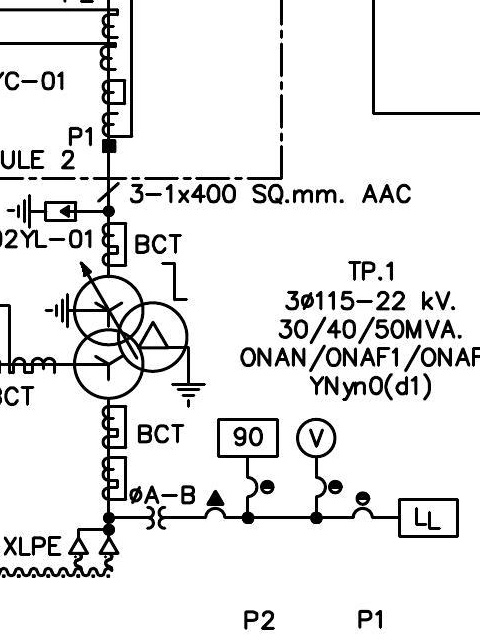11522_tx_ynyn0d1: (219, 287, 231, 311)
115_1way_ds_w_motor: (256, 196, 267, 205)
115_3ways_ds_w_motor: (216, 51, 227, 59), (309, 51, 320, 59), (219, 171, 223, 179), (219, 215, 223, 223), (313, 172, 317, 180)
115_breaker: (221, 163, 224, 170), (314, 164, 317, 171), (221, 228, 224, 235)
115_la: (213, 74, 220, 80), (213, 273, 220, 279), (307, 74, 314, 80)
115_vt_1p: (272, 220, 287, 248)
115_vt_3p: (319, 64, 333, 95), (226, 64, 240, 93)
22_breaker: (147, 371, 150, 394), (166, 371, 169, 394), (278, 371, 281, 394), (309, 371, 312, 394), (387, 371, 390, 394), (424, 371, 427, 394), (99, 366, 102, 388), (19, 372, 22, 394), (52, 372, 55, 394), (326, 372, 329, 394), (225, 356, 235, 361), (84, 371, 86, 394), (405, 371, 407, 394), (186, 372, 188, 394), (344, 366, 346, 386)
22_cap_bank: (5, 475, 41, 519), (409, 470, 445, 513)
22_ds: (205, 372, 209, 397), (260, 372, 263, 397)
22_ds_la_out: (306, 477, 313, 500), (50, 477, 56, 501), (81, 477, 87, 500), (145, 477, 151, 500), (164, 477, 170, 500), (183, 477, 189, 500), (276, 477, 282, 500), (324, 477, 330, 500), (385, 477, 391, 500), (402, 477, 408, 500)
22_ds_out: (15, 437, 19, 446), (48, 437, 52, 446), (143, 437, 147, 446), (162, 437, 166, 446), (202, 433, 206, 442), (274, 437, 278, 446), (305, 437, 309, 446), (322, 437, 326, 446), (383, 437, 387, 446), (420, 437, 424, 446), (80, 437, 83, 446), (182, 437, 185, 446), (257, 433, 260, 442), (401, 437, 404, 446), (96, 478, 99, 486), (340, 478, 343, 486)
22_gs: (22, 434, 26, 437), (169, 434, 173, 437), (329, 434, 333, 437), (390, 434, 394, 437), (55, 434, 58, 437), (87, 434, 90, 437), (150, 434, 153, 437), (189, 434, 192, 437), (209, 430, 212, 433), (264, 430, 267, 433), (281, 434, 284, 437), (312, 434, 315, 437), (408, 434, 411, 437), (427, 434, 430, 437), (102, 476, 105, 478), (346, 476, 349, 478)
22_ll: (243, 371, 257, 412), (213, 372, 227, 412)
DIM: (289, 423, 295, 431), (274, 117, 280, 125), (368, 117, 374, 125), (359, 417, 365, 425), (63, 421, 69, 428), (231, 420, 237, 427), (115, 417, 120, 425)
DPM: (251, 328, 257, 336), (292, 263, 298, 271), (213, 427, 218, 434), (236, 431, 241, 438), (258, 68, 263, 74), (352, 68, 357, 74)
MU: (196, 300, 207, 308)
NGR_future: (439, 458, 444, 464), (35, 458, 40, 464)
remote_io_module: (240, 162, 248, 174), (334, 159, 341, 171)
tele_protection: (219, 334, 224, 339), (100, 490, 105, 495)
terminator_double: (261, 497, 264, 501), (424, 465, 427, 469), (186, 471, 189, 474), (207, 497, 209, 501), (20, 470, 22, 474), (53, 471, 55, 475), (84, 471, 86, 474), (148, 471, 150, 474), (167, 471, 169, 474), (279, 471, 281, 474), (310, 471, 312, 474), (327, 471, 329, 474), (388, 471, 390, 474), (405, 471, 407, 474)
terminator_splicing_kits: (84, 442, 90, 447), (186, 442, 192, 447), (261, 438, 267, 443), (20, 442, 25, 447), (53, 442, 58, 447), (148, 442, 153, 447), (167, 442, 172, 447), (207, 438, 212, 443), (279, 442, 284, 447), (310, 442, 315, 447), (327, 442, 332, 447), (388, 442, 393, 447), (405, 442, 410, 447), (425, 442, 430, 447)
terminator_w_future: (241, 313, 245, 321)
v_m: (292, 272, 305, 280)
